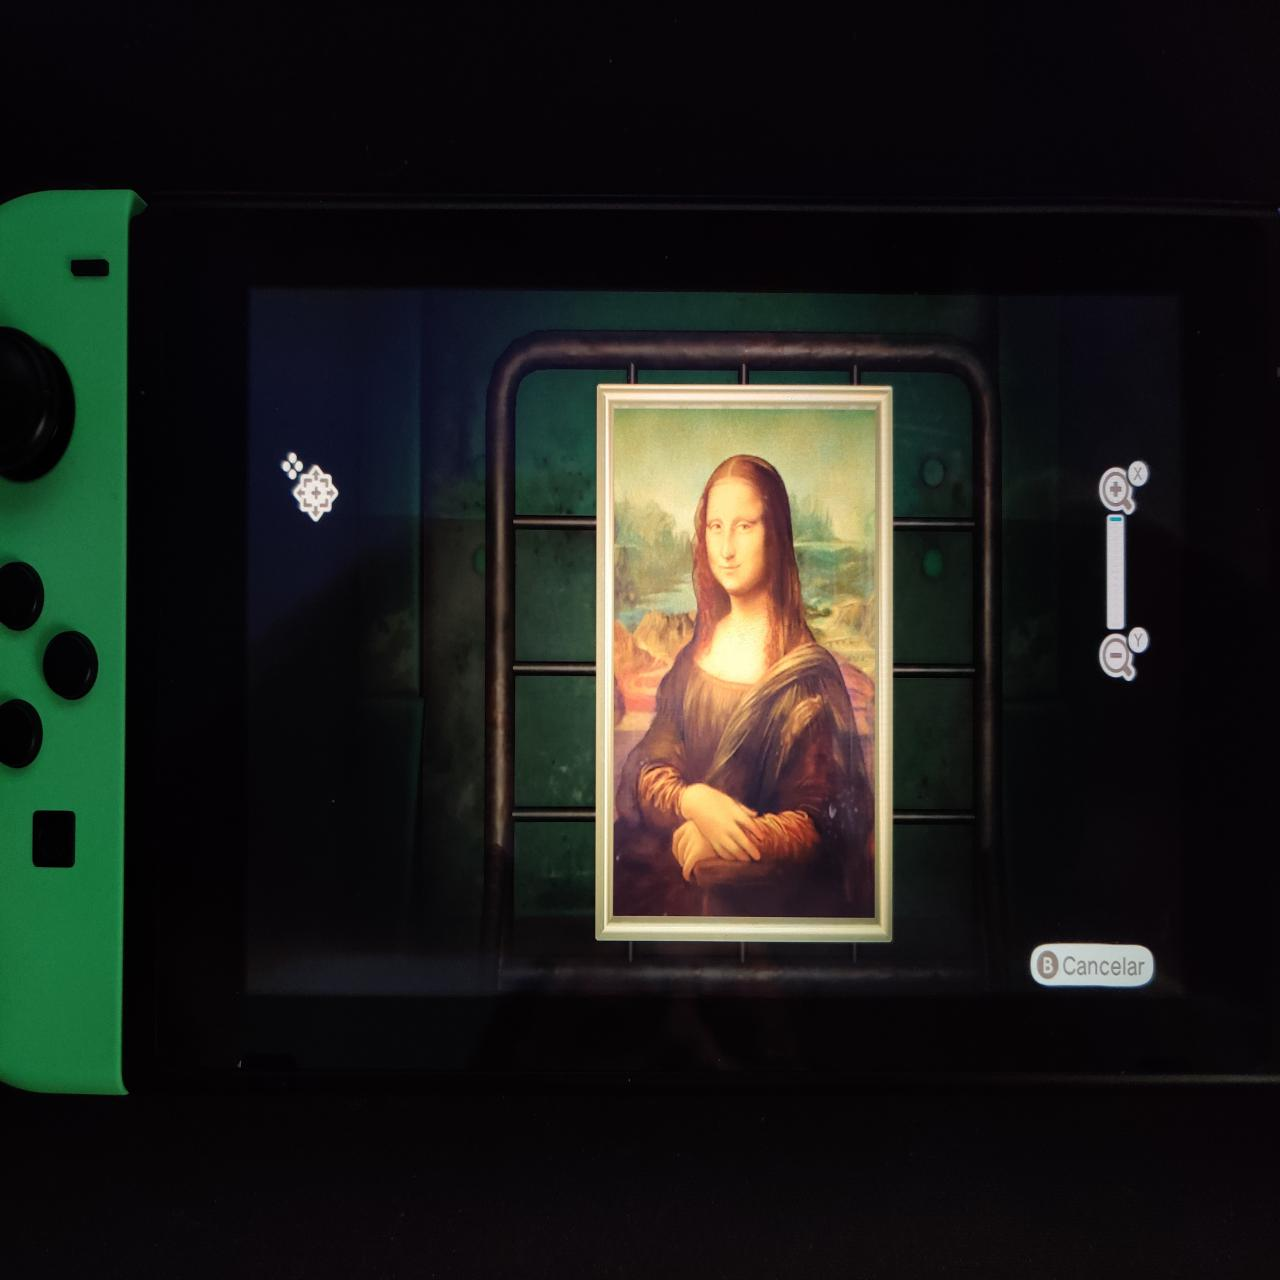MonaLisa: (618, 411, 876, 917)
